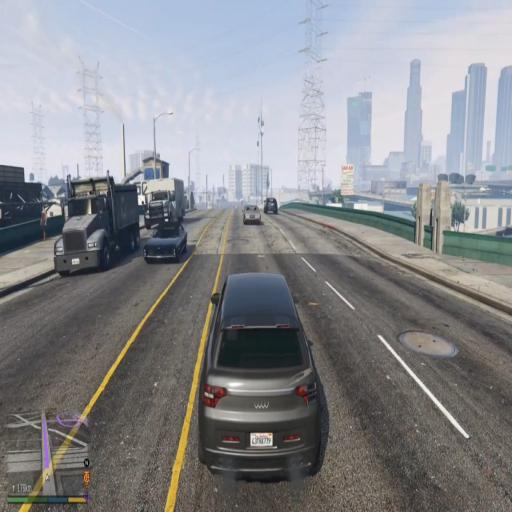Cars: (194, 274, 336, 481), (140, 214, 192, 272), (239, 192, 263, 234), (267, 184, 282, 220)
People: (38, 202, 51, 246)
Trucks: (48, 167, 142, 283), (139, 173, 198, 226)
